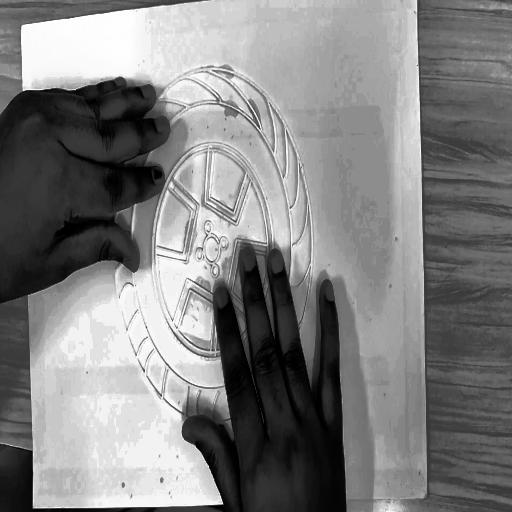bottom_right: (423, 489, 433, 504)
tire: (103, 51, 325, 436)
top_left: (18, 19, 26, 34)
